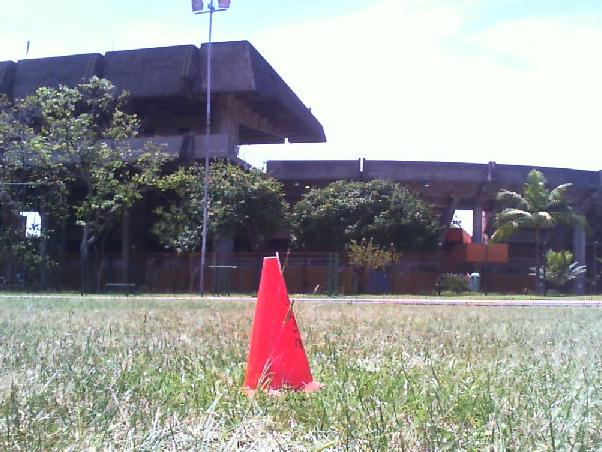0 cone: (241, 258, 324, 395)
